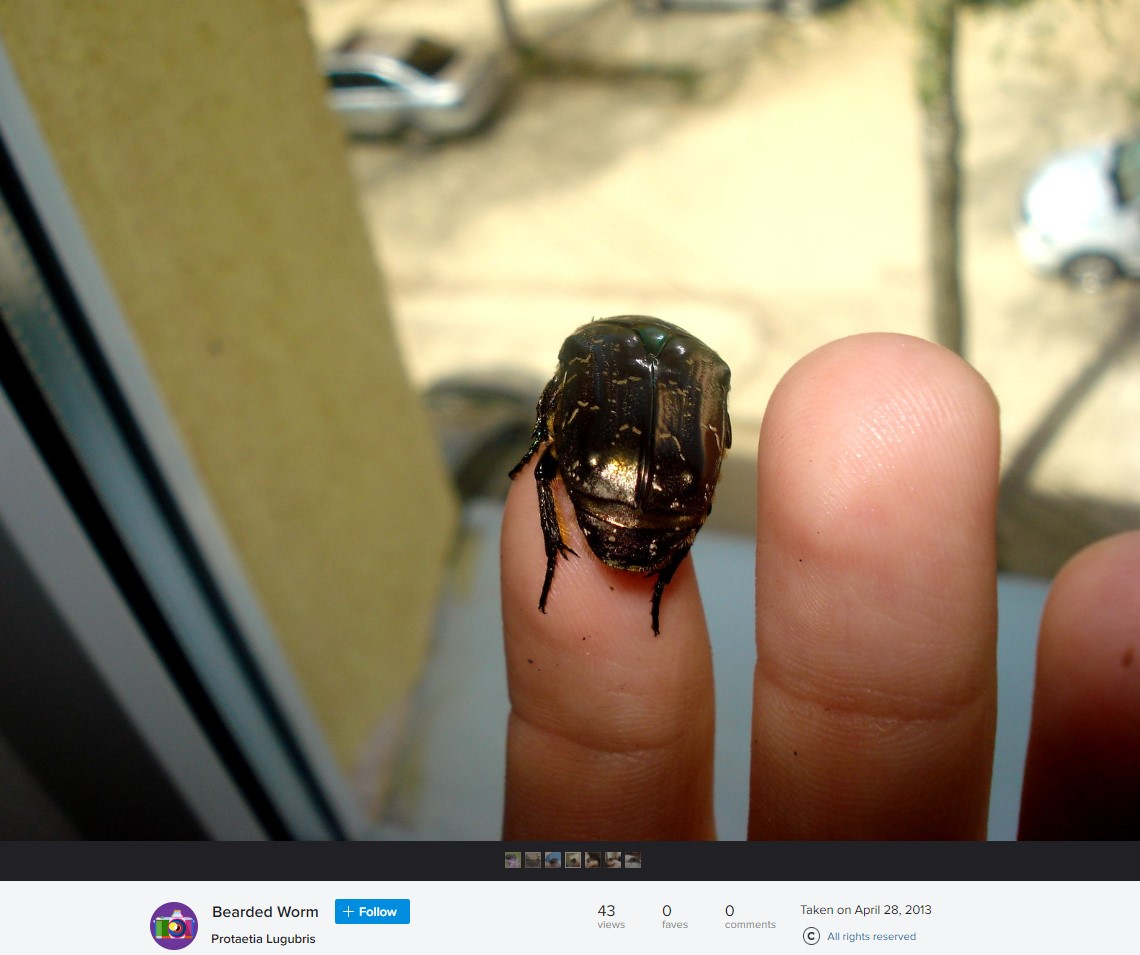Protaetia_lugubris: (499, 304, 746, 639)
